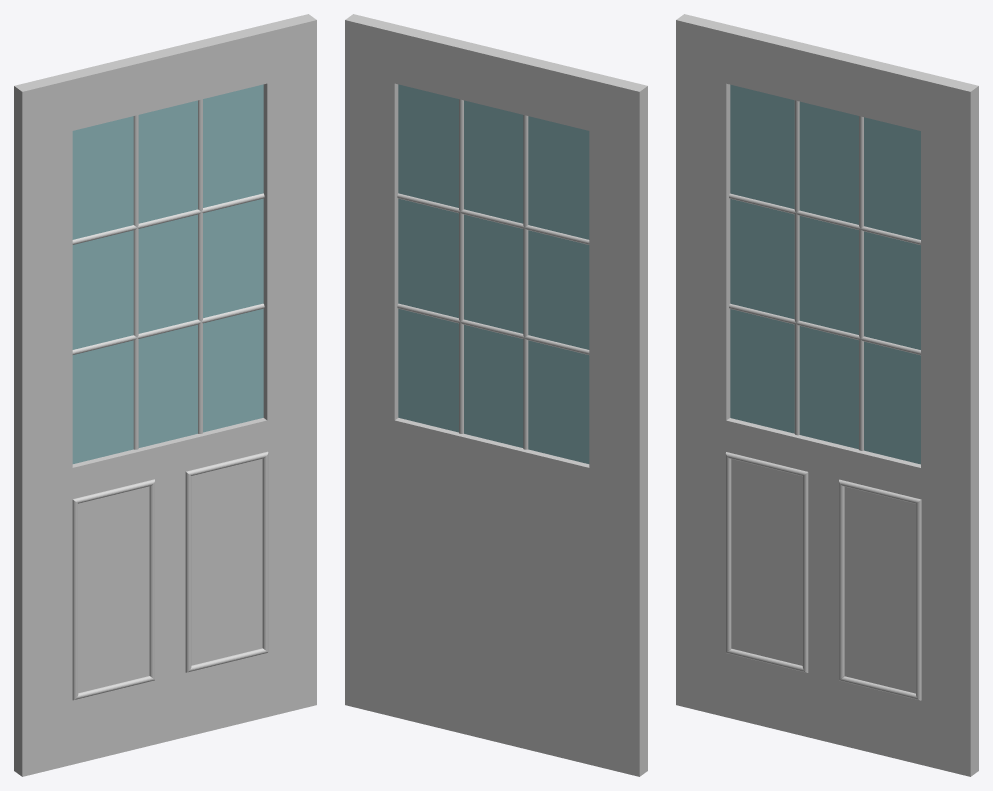
Rendered from Epic Jaiks (1).glb.
3 views of the same model, side by side, from view 1: azimuth 30°, elevation 25°; view 2: azimuth 150°, elevation 25°; view 3: azimuth 330°, elevation 25° (orthographic).
Parts seen in each view (by area): view 1: Mesh_Mesh_head_geo.001_lambert2SG.001; view 2: Mesh_Mesh_head_geo.001_lambert2SG.001; view 3: Mesh_Mesh_head_geo.001_lambert2SG.001.
Part boxes in pixels (x1,y1,x2,y2): Mesh_Mesh_head_geo.001_lambert2SG.001: (14, 14, 316, 776); Mesh_Mesh_head_geo.001_lambert2SG.001: (345, 14, 647, 776); Mesh_Mesh_head_geo.001_lambert2SG.001: (676, 14, 978, 776).
Bounding box in the file's own units: 0.018 × 0.04 × 0.00104.
